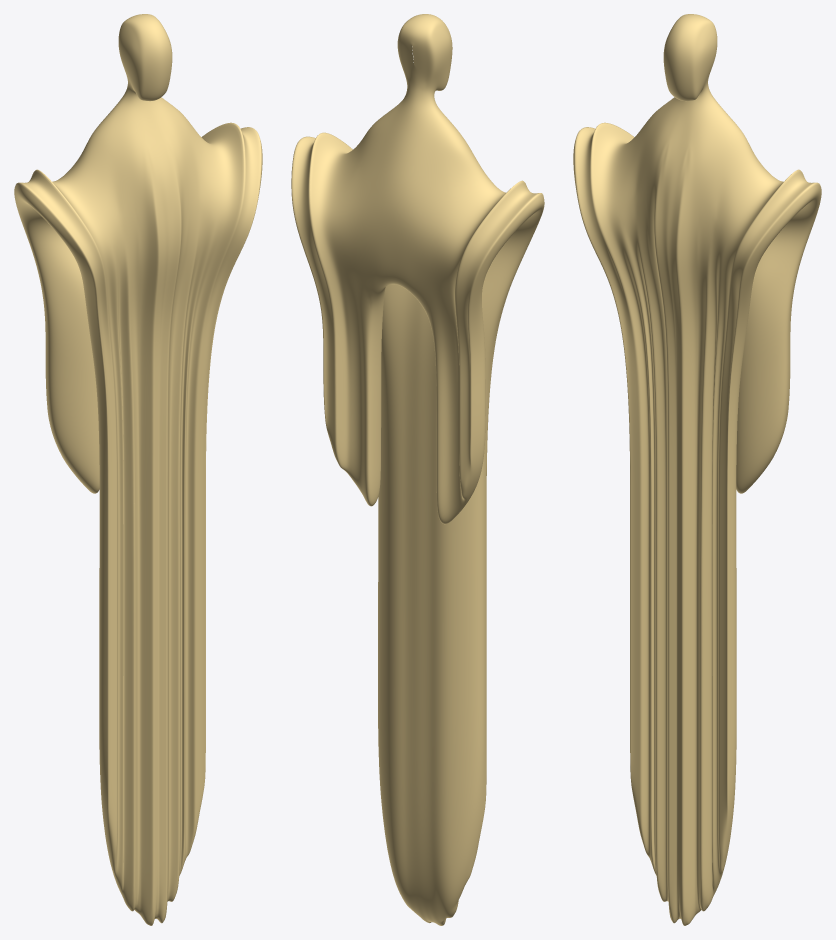
File: waterfall.glb
The picture shows the model from 3 angles, left to right: view 1: azimuth 30°, elevation 25°; view 2: azimuth 150°, elevation 25°; view 3: azimuth 330°, elevation 25°; orthographic projection.
Visible parts, largest first — view 1: Shape057; view 2: Shape057; view 3: Shape057.
Boxes of the visible parts, <box> form: Shape057: <box>14,14,262,925</box>; Shape057: <box>291,14,544,925</box>; Shape057: <box>573,14,821,925</box>.
Bounding box in the file's own units: 0.0111 × 0.0407 × 0.00519.
